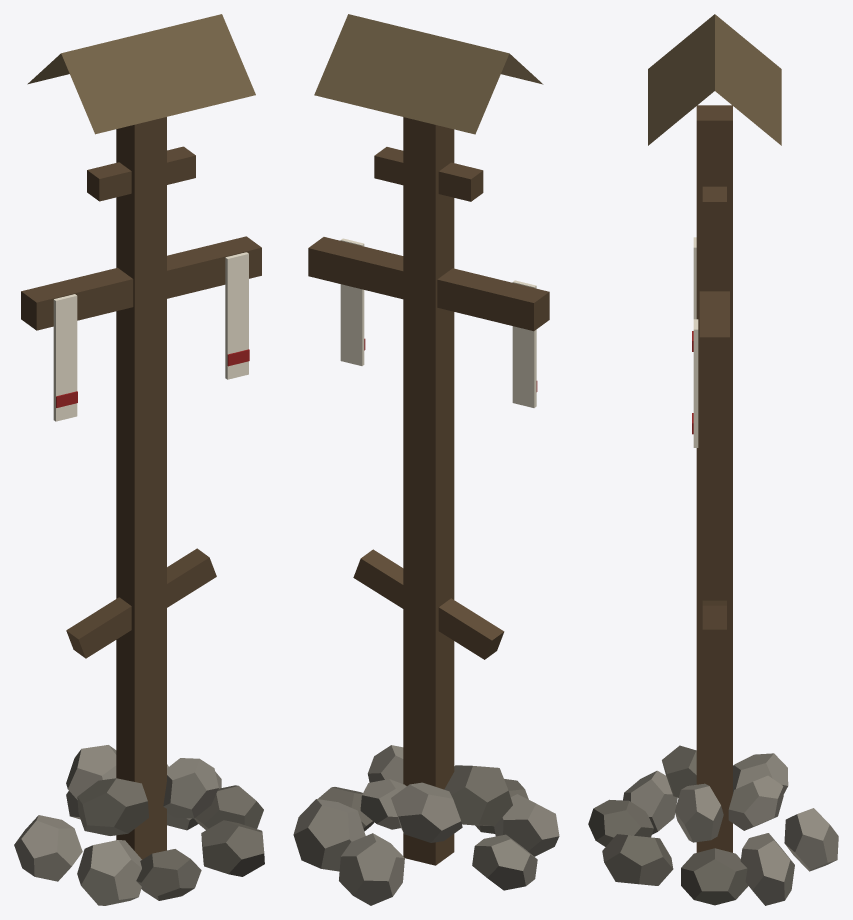
File: khrest.glb
The picture shows the model from 3 angles, left to right: view 1: azimuth 30°, elevation 25°; view 2: azimuth 150°, elevation 25°; view 3: azimuth 270°, elevation 25°; orthographic projection. The views are drawn at different scales.
Parts seen in each view (by area): view 1: upright, stone (×8), roof_s, bar, rushnyk (×2), bar_foot, bar_top, roof_n; view 2: upright, stone (×9), roof_n, bar, bar_foot, rushnyk (×2), bar_top; view 3: stone (×10), upright, roof_n, roof_s, bar, bar_top, rushnyk, bar_foot.
Part boxes in pixels (<box>): upright: <box>116,117,166,859</box>; stone (×8): <box>14,745,264,905</box>; roof_s: <box>61,14,255,134</box>; bar: <box>21,236,261,330</box>; rushnyk (×2): <box>53,252,248,421</box>; bar_foot: <box>66,548,216,658</box>; bar_top: <box>87,146,195,201</box>; roof_n: <box>27,53,69,84</box>; upright: <box>403,117,454,865</box>; stone (×9): <box>293,745,559,905</box>; roof_n: <box>314,14,509,134</box>; bar: <box>308,237,549,331</box>; bar_foot: <box>353,549,504,659</box>; rushnyk (×2): <box>340,238,536,407</box>; bar_top: <box>374,147,483,201</box>; stone (×10): <box>588,745,838,905</box>; upright: <box>696,105,732,852</box>; roof_n: <box>715,14,781,145</box>; roof_s: <box>648,14,714,145</box>; bar: <box>699,291,729,364</box>; bar_top: <box>702,186,726,223</box>; rushnyk: <box>693,319,698,447</box>; bar_foot: <box>702,600,726,629</box>.
Bounding box in the file's own units: 0.8521 × 2.96 × 0.8257.
